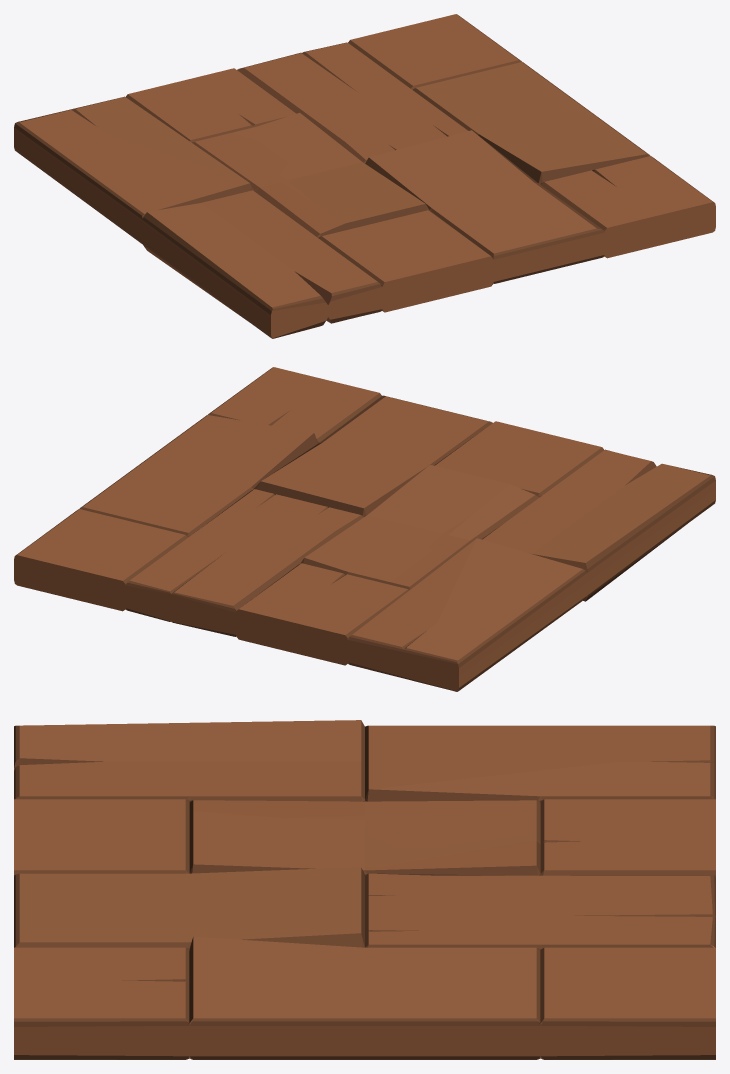
The model's file is Floor_Wood_3_2x2.fbx.
The picture shows the model from 3 angles, top to bottom: view 1: azimuth 30°, elevation 25°; view 2: azimuth 150°, elevation 25°; view 3: azimuth 270°, elevation 25°; orthographic projection. The views are drawn at different scales.
Parts seen in each view (by area): view 1: Floor_Wood.019; view 2: Floor_Wood.019; view 3: Floor_Wood.019.
Boxes of the visible parts, x1,y1,x2,y2 form: Floor_Wood.019: (14,14,715,338); Floor_Wood.019: (14,367,715,691); Floor_Wood.019: (14,720,715,1059).
Bounding box in the file's own units: 200 × 20 × 200.
